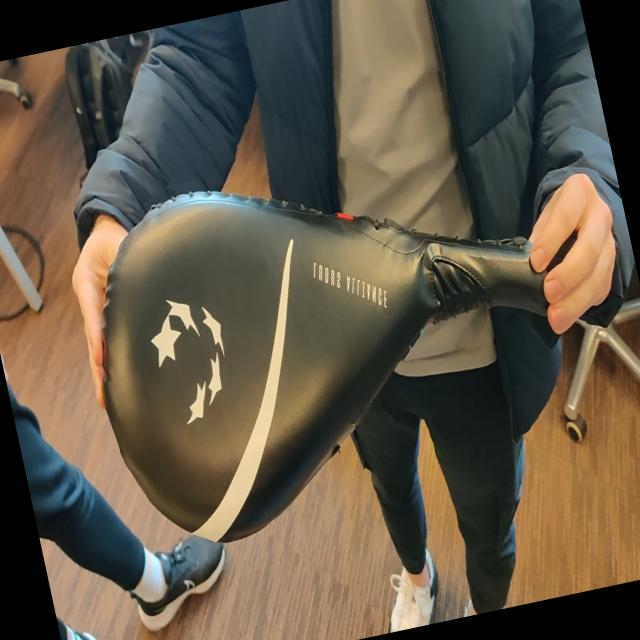paddle: (102, 189, 551, 537)
